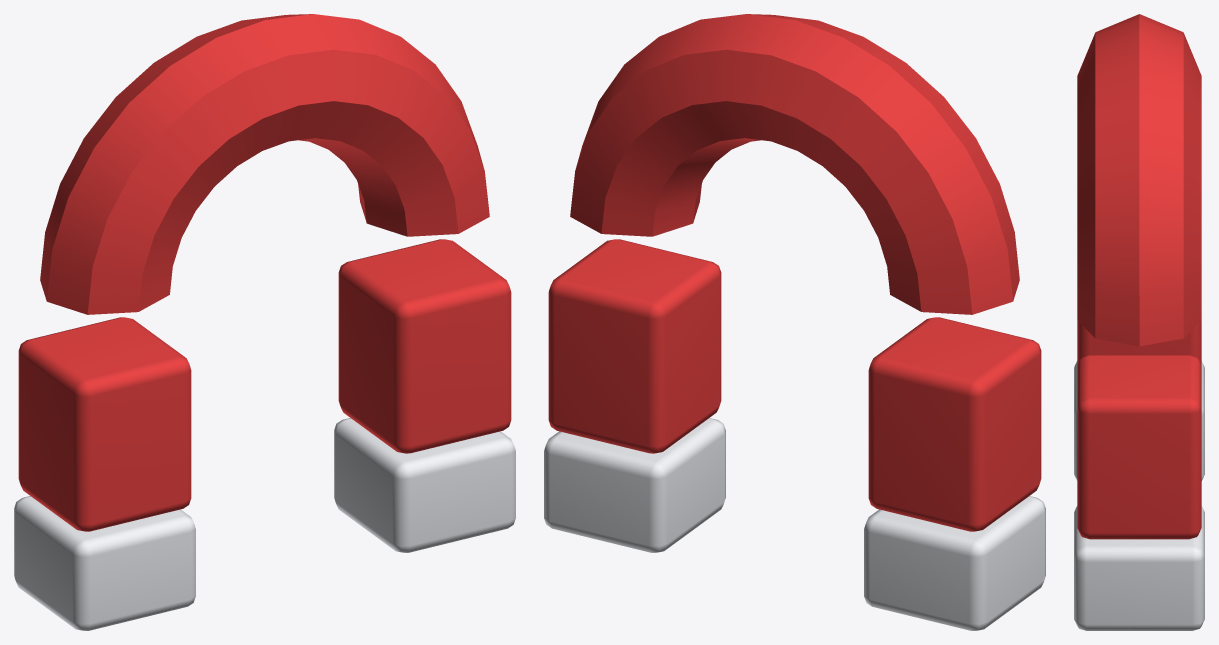
The model's file is Magnet.fbx.
3 views of the same model, side by side, from view 1: azimuth 30°, elevation 25°; view 2: azimuth 150°, elevation 25°; view 3: azimuth 270°, elevation 25° (orthographic). The views are drawn at different scales.
Parts seen in each view (by area): view 1: Magnet; view 2: Magnet; view 3: Magnet.
Part boxes in pixels (x1,y1,x2,y2): Magnet: (14, 14, 515, 630); Magnet: (544, 14, 1045, 630); Magnet: (1074, 14, 1204, 630).
Bounding box in the file's own units: 1.52 × 1.77 × 0.42.
1 material, 1 textured.
